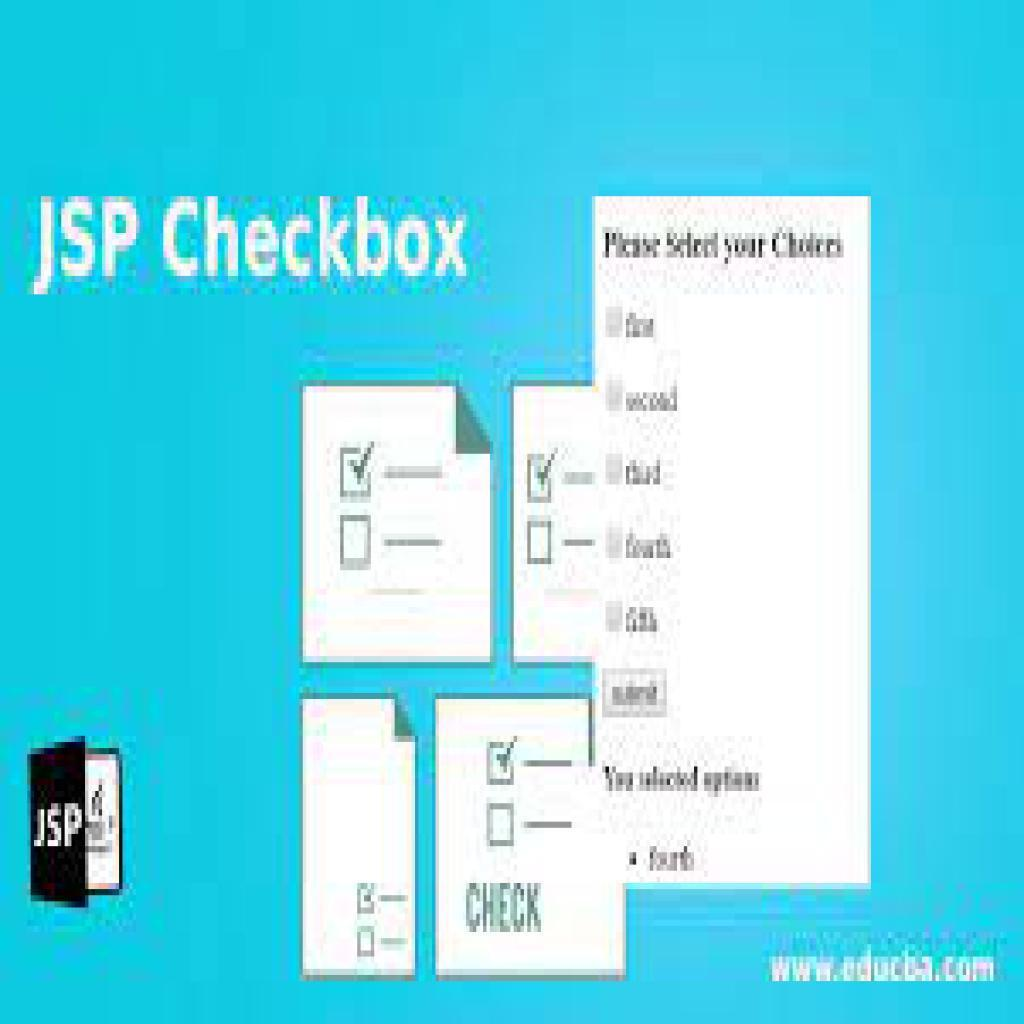button: (601, 667, 667, 718)
checkbox: (341, 516, 372, 570), (340, 448, 371, 501), (487, 743, 517, 786), (487, 804, 516, 847), (527, 457, 554, 502), (528, 520, 552, 566), (606, 306, 623, 338), (607, 379, 624, 411), (606, 603, 624, 632), (608, 527, 623, 558), (606, 456, 623, 483)
